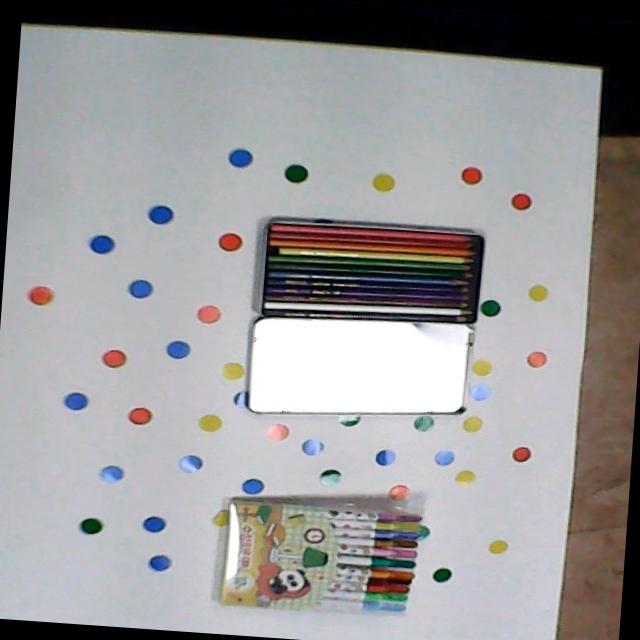color: (251, 210, 496, 330)
signpen: (202, 490, 432, 628)
